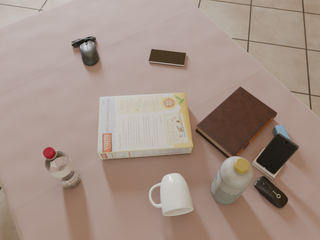book: (196, 86, 277, 158)
bottle: (211, 156, 254, 204), (43, 147, 81, 188)
box: (98, 93, 193, 159)
cup: (149, 173, 193, 216)
mouse: (254, 176, 288, 208), (71, 37, 99, 65)
phone: (256, 133, 299, 174), (148, 49, 186, 66)
toy_car: (273, 125, 290, 140)
